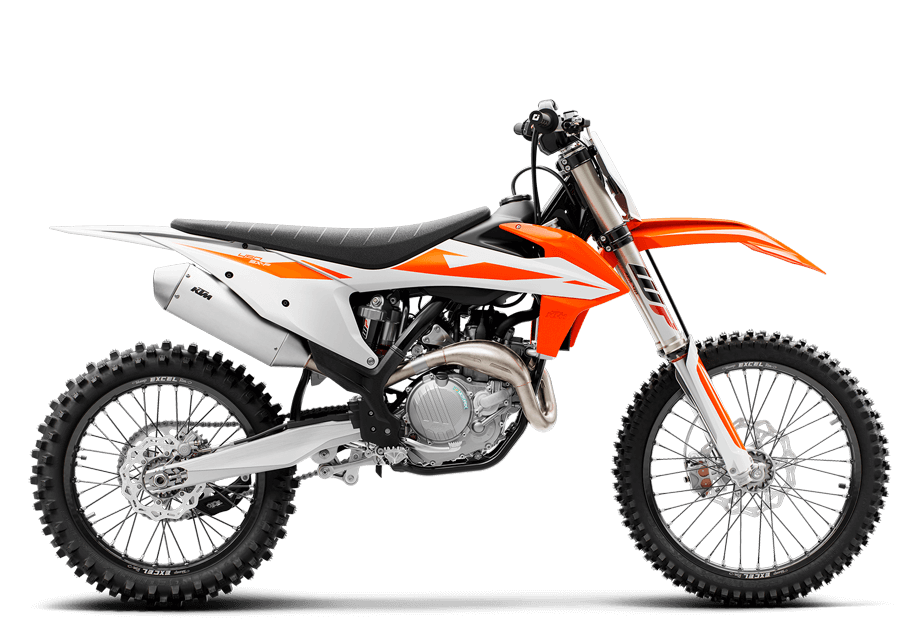motorbike: (28, 99, 890, 607)
